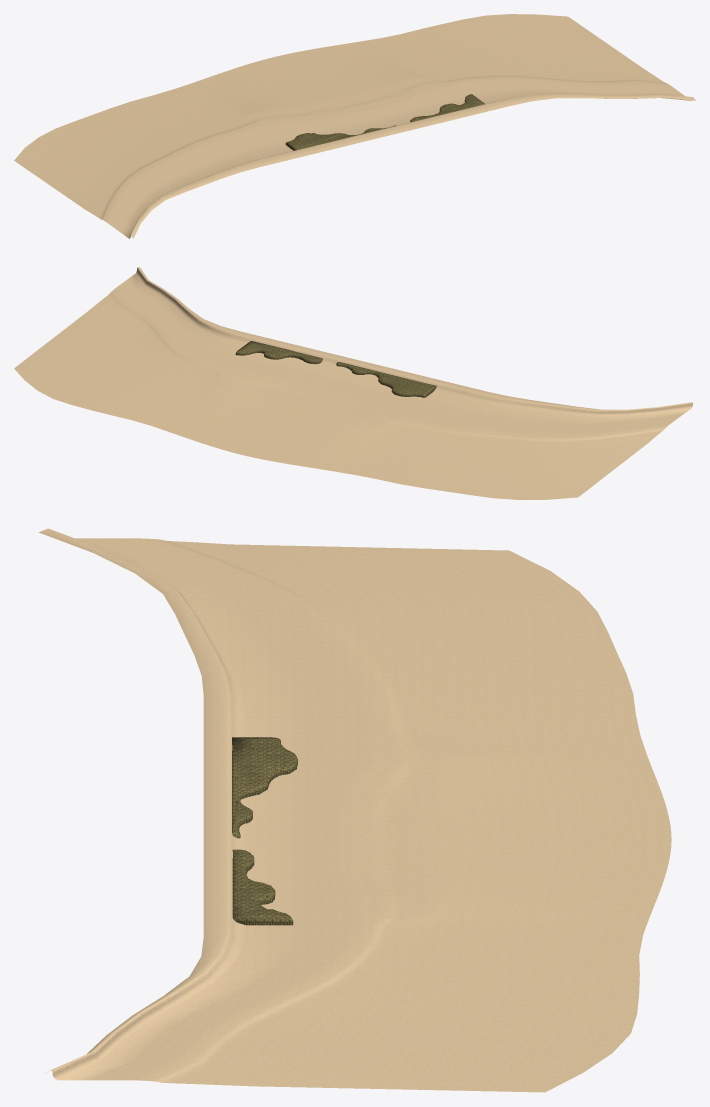
The model's file is Beach.glb.
3 renders of one model, top to bottom at view 1: azimuth 30°, elevation 25°; view 2: azimuth 150°, elevation 25°; view 3: azimuth 270°, elevation 25°, orthographic. The views are drawn at different scales.
Parts seen in each view (by area): view 1: Beach, Shrubs; view 2: Beach, Shrubs; view 3: Beach, Shrubs.
Part boxes in pixels (box(x1,y1,x2,y2)): Beach: box(14, 14, 695, 238); Shrubs: box(285, 94, 484, 150); Beach: box(14, 267, 693, 499); Shrubs: box(235, 341, 436, 397); Beach: box(39, 528, 671, 1092); Shrubs: box(232, 737, 297, 925).
Size of the model in its own units: 422 by 8 by 208.
2 materials, 2 textured.
